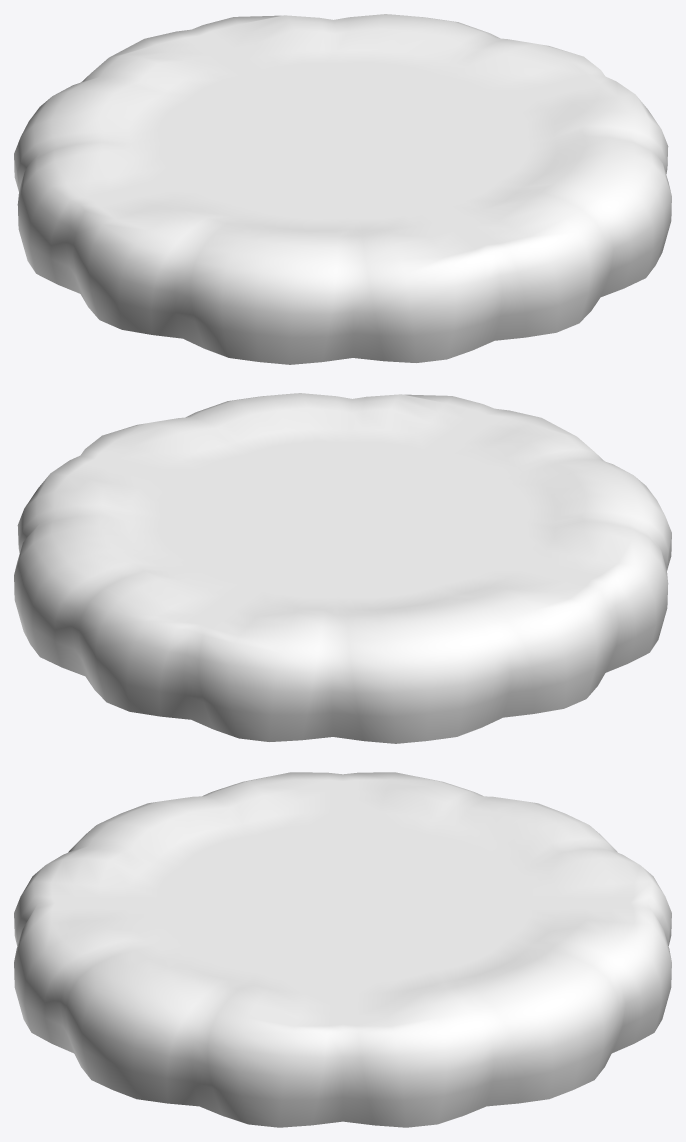
File: Island.fbx
The picture shows the model from 3 angles, top to bottom: view 1: azimuth 30°, elevation 25°; view 2: azimuth 150°, elevation 25°; view 3: azimuth 270°, elevation 25°; orthographic projection.
Parts seen in each view (by area): view 1: Island; view 2: Island; view 3: Island.
Part boxes in pixels (x1,y1,x2,y2): Island: (14,14,671,364); Island: (14,393,671,743); Island: (14,772,671,1127).
Size of the model in its own units: 16 by 2.65 by 16.
